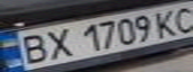0: (115, 15, 139, 46)
1: (75, 20, 100, 52)
7: (96, 18, 121, 50)
9: (130, 11, 157, 43)
B: (12, 32, 54, 66)
C: (169, 2, 193, 34)
K: (151, 7, 184, 38)
X: (39, 25, 78, 61)
